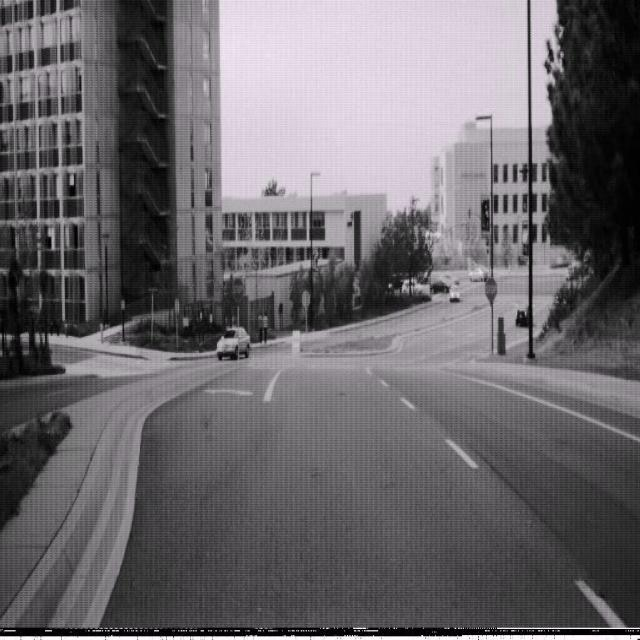stop: (484, 274, 498, 302), (230, 274, 244, 302)
